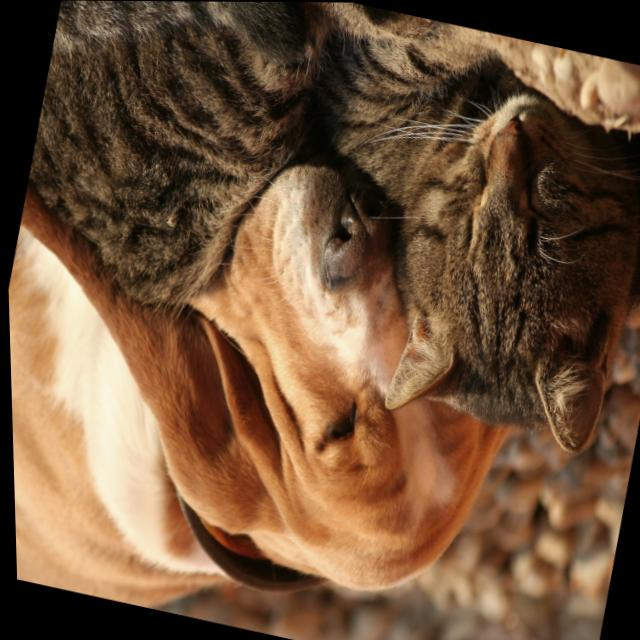Cat: (367, 57, 640, 473)
Dog: (2, 83, 562, 640)
